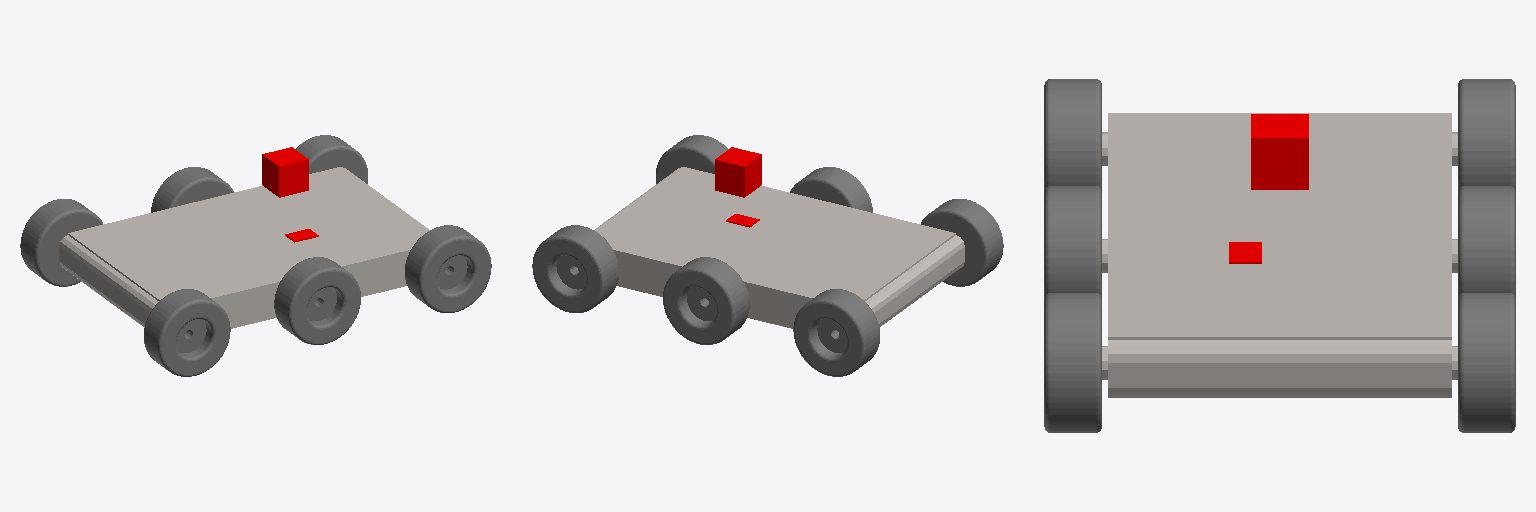
The robot description file, URDF, robot "6wdrobot":
<?xml version="1.0" encoding="utf-8"?>
<!-- This URDF was automatically created by SolidWorks to URDF Exporter! Originally created by [author] ([email redacted]) 
     Commit Version: 1.6.0-1-g15f4949  Build Version: 1.6.7594.29634
     For more information, please see http://wiki.ros.org/sw_urdf_exporter -->
<robot
  name="6wdrobot">
  <link name="dummy">
  </link>  
  <link
    name="base_link">
    <inertial>
      <origin
        xyz="3.25434433893571E-17 -7.87892363847751E-17 0.028309054753637"
        rpy="0 0 0" />
      <mass
        value="8.89985095070989" />
      <inertia
        ixx="0.0873775019369665"
        ixy="-6.18908522780936E-17"
        ixz="-7.10139062453339E-19"
        iyy="0.201411214668191"
        iyz="1.04057366878614E-17"
        izz="0.285825171408563" />
    </inertial>
    <visual>
      <origin
        xyz="0 0 0"
        rpy="0 0 0" />
      <geometry>
        <mesh
          filename="package://six_wheel_drive/meshes/base_link.STL" />
      </geometry>
      <material
        name="">
        <color
          rgba="0.776470588235294 0.756862745098039 0.737254901960784 1" />
      </material>
    </visual>
    <collision>
      <origin
        xyz="0 0 0"
        rpy="0 0 0" />
      <geometry>
        <mesh
          filename="package://six_wheel_drive/meshes/base_link.STL" />
      </geometry>
    </collision>
  </link>

  <joint name="dummy_joint" type="fixed">
     <parent link="dummy"/>
     <child link="base_link"/>
   </joint>

  <link
    name="wheel_1">
    <inertial>
      <origin
        xyz="5.55111512312578E-17 -3.46944695195361E-18 0.0234150828488255"
        rpy="0 0 0" />
      <mass
        value="0.496854720213167" />
      <inertia
        ixx="0.000600193850657454"
        ixy="0"
        ixz="1.61565152047808E-20"
        iyy="0.000600193850657454"
        iyz="4.50998871731038E-20"
        izz="0.00100449326717908" />
    </inertial>
    <visual>
      <origin
        xyz="0 0 0"
        rpy="0 1.5707963267949 -1.5707963267949" />
      <geometry>
        <mesh
          filename="package://six_wheel_drive/meshes/wheel_1.STL" />
      </geometry>
      <material
        name="">
        <color
          rgba="0.501960784313725 0.501960784313725 0.501960784313725 1" />
      </material>
    </visual>
    <collision>
      <origin
        xyz="0 0 0"
        rpy="0 1.5707963267949 -1.5707963267949" />
      <geometry>
        <mesh
          filename="package://six_wheel_drive/meshes/wheel_1.STL" />
      </geometry>
    </collision>
  </link>
  <joint
    name="wj1"
    type="continuous">
    <origin
      xyz="0.22 0.155 0.027"
      rpy="0 0 3.141592654" />
    <parent
      link="base_link" />
    <child
      link="wheel_1" />
    <axis
      xyz="0 -1 0" />
  </joint>
  <link
    name="wheel_2">
    <inertial>
      <origin
        xyz="-5.55111512312578E-17 -6.93889390390723E-18 0.0234150828488254"
        rpy="0 0 0" />
      <mass
        value="0.496854720213167" />
      <inertia
        ixx="0.000600193850657454"
        ixy="0"
        ixz="-3.14427093120379E-21"
        iyy="0.000600193850657454"
        iyz="-1.52762865296402E-22"
        izz="0.00100449326717908" />
    </inertial>
    <visual>
      <origin
        xyz="0 0 0"
        rpy="0 1.5707963267949 1.5707963267949" />
      <geometry>
        <mesh
          filename="package://six_wheel_drive/meshes/wheel_2.STL" />
      </geometry>
      <material
        name="">
        <color
          rgba="0.501960784313725 0.501960784313725 0.501960784313725 1" />
      </material>
    </visual>
    <collision>
      <origin
        xyz="0 0 0"
        rpy="0 1.5707963267949 1.5707963267949" />
      <geometry>
        <mesh
          filename="package://six_wheel_drive/meshes/wheel_2.STL" />
      </geometry>
    </collision>
  </link>
  <joint
    name="wj2"
    type="continuous">
    <origin
      xyz="0.22 -0.155 0.027"
      rpy="3.141592654 0 0" />
    <parent
      link="base_link" />
    <child
      link="wheel_2" />
    <axis
      xyz="0 -1 0" />
  </joint>
  <link
    name="wheel_3">
    <inertial>
      <origin
        xyz="-2.42861286636753E-17 1.73472347597681E-17 0.0234150828488254"
        rpy="0 0 0" />
      <mass
        value="0.496854720213167" />
      <inertia
        ixx="0.000600193850657454"
        ixy="-5.42101086242752E-20"
        ixz="4.78770762399125E-20"
        iyy="0.000600193850657454"
        iyz="3.38815713366649E-20"
        izz="0.00100449326717908" />
    </inertial>
    <visual>
      <origin
        xyz="0 0 0"
        rpy="0 1.5707963267949 -1.5707963267949" />
      <geometry>
        <mesh
          filename="package://six_wheel_drive/meshes/wheel_3.STL" />
      </geometry>
      <material
        name="">
        <color
          rgba="0.501960784313725 0.501960784313725 0.501960784313725 1" />
      </material>
    </visual>
    <collision>
      <origin
        xyz="0 0 0"
        rpy="0 1.5707963267949 -1.5707963267949" />
      <geometry>
        <mesh
          filename="package://six_wheel_drive/meshes/wheel_3.STL" />
      </geometry>
    </collision>
  </link>
  <joint
    name="wj3"
    type="continuous">
    <origin
      xyz="0 0.155 0.027"
      rpy="0 0 3.141592654" />
    <parent
      link="base_link" />
    <child
      link="wheel_3" />
    <axis
      xyz="0 -1 0" />
  </joint>
  <link
    name="wheel_4">
    <inertial>
      <origin
        xyz="2.86229373536173E-17 0 0.0234150828488254"
        rpy="0 0 0" />
      <mass
        value="0.496854720213167" />
      <inertia
        ixx="0.000600193850657454"
        ixy="0"
        ixz="-2.7326617250845E-21"
        iyy="0.000600193850657454"
        iyz="-5.07733050758664E-22"
        izz="0.00100449326717908" />
    </inertial>
    <visual>
      <origin
        xyz="0 0 0"
        rpy="0 1.5707963267949 1.5707963267949" />
      <geometry>
        <mesh
          filename="package://six_wheel_drive/meshes/wheel_4.STL" />
      </geometry>
      <material
        name="">
        <color
          rgba="0.501960784313725 0.501960784313725 0.501960784313725 1" />
      </material>
    </visual>
    <collision>
      <origin
        xyz="0 0 0"
        rpy="0 1.5707963267949 1.5707963267949" />
      <geometry>
        <mesh
          filename="package://six_wheel_drive/meshes/wheel_4.STL" />
      </geometry>
    </collision>
  </link>
  <joint
    name="wj4"
    type="continuous">
    <origin
      xyz="0 -0.155 0.027"
      rpy="3.141592654 0 0" />
    <parent
      link="base_link" />
    <child
      link="wheel_4" />
    <axis
      xyz="0 -1 0" />
  </joint>
  <link
    name="wheel_5">
    <inertial>
      <origin
        xyz="0 1.04083408558608E-17 0.0234150828488254"
        rpy="0 0 0" />
      <mass
        value="0.496854720213167" />
      <inertia
        ixx="0.000600193850657454"
        ixy="-1.6940658945086E-21"
        ixz="1.17900986878341E-20"
        iyy="0.000600193850657454"
        iyz="4.52750976635983E-20"
        izz="0.00100449326717908" />
    </inertial>
    <visual>
      <origin
        xyz="0 0 0"
        rpy="0 1.5707963267949 -1.5707963267949" />
      <geometry>
        <mesh
          filename="package://six_wheel_drive/meshes/wheel_5.STL" />
      </geometry>
      <material
        name="">
        <color
          rgba="0.501960784313725 0.501960784313725 0.501960784313725 1" />
      </material>
    </visual>
    <collision>
      <origin
        xyz="0 0 0"
        rpy="0 1.5707963267949 -1.5707963267949" />
      <geometry>
        <mesh
          filename="package://six_wheel_drive/meshes/wheel_5.STL" />
      </geometry>
    </collision>
  </link>
  <joint
    name="wj5"
    type="continuous">
    <origin
      xyz="-0.22 0.155 0.027"
      rpy="0 0 3.141592654" />
    <parent
      link="base_link" />
    <child
      link="wheel_5" />
    <axis
      xyz="0 -1 0" />
  </joint>
  <link
    name="wheel_6">
    <inertial>
      <origin
        xyz="2.77555756156289E-17 -3.46944695195361E-18 0.0234150828488254"
        rpy="0 0 0" />
      <mass
        value="0.496854720213167" />
      <inertia
        ixx="0.000600193850657454"
        ixy="0"
        ixz="2.16658438655785E-20"
        iyy="0.000600193850657454"
        iyz="6.89724555337065E-23"
        izz="0.00100449326717908" />
    </inertial>
    <visual>
      <origin
        xyz="0 0 0"
        rpy="0 1.5707963267949 1.5707963267949" />
      <geometry>
        <mesh
          filename="package://six_wheel_drive/meshes/wheel_6.STL" />
      </geometry>
      <material
        name="">
        <color
          rgba="0.501960784313725 0.501960784313725 0.501960784313725 1" />
      </material>
    </visual>
    <collision>
      <origin
        xyz="0 0 0"
        rpy="0 1.5707963267949 1.5707963267949" />
      <geometry>
        <mesh
          filename="package://six_wheel_drive/meshes/wheel_6.STL" />
      </geometry>
    </collision>
  </link>
  <joint
    name="wj6"
    type="continuous">
    <origin
      xyz="-0.22 -0.155 0.027"
      rpy="3.141592654 0 0" />
    <parent
      link="base_link" />
    <child
      link="wheel_6" />
    <axis
      xyz="0 -1 0" />
  </joint>
    <!--
  <link name="velodyne_base_link">
    <inertial>
      <mass value="0.83"/>
      <origin xyz="0 0 0.03585"/>
      <inertia ixx="0.001" ixy="0" ixz="0"
        iyy="0.001" iyz="0"
        izz="0.0011"/>
    </inertial>
    <visual>
      <geometry>
        <mesh filename="package://velodyne_description/meshes/VLP16_base_1.dae" />
      </geometry>
    </visual>
    <visual>
      <geometry>
        <mesh filename="package://velodyne_description/meshes/VLP16_base_2.dae" />
      </geometry>
    </visual>
    <collision>
      <origin rpy="0 0 0" xyz="0 0 0.03585"/>
      <geometry>
        <cylinder radius="0.0516" length="0.0717"/>
      </geometry>
    </collision>
  </link>

  <joint name="velodyne_base_mount_joint" type="fixed">
    <origin xyz="0 0 0.1" rpy="0 0 0" />
    <parent link="base_link"/>
    <child link="velodyne_base_link"/>
  </joint>
    
  <link name="velodyne">
    <inertial>
      <mass value="0.01"/>
      <origin xyz="0 0 0"/>
      <inertia ixx="0" ixy="0" ixz="0" iyy="0" iyz="0" izz="0"/>
    </inertial>
    <visual>
      <origin xyz="0 0 -0.0377" />
      <geometry>
        <mesh filename="package://velodyne_description/meshes/VLP16_scan.dae" />
      </geometry>
    </visual>
  </link>
    
  <joint name="velodyne_base_scan_joint" type="fixed" >
    <origin xyz="0 0 0" rpy="0 0 0" />
    <parent link="velodyne_base_link" />
    <child link="velodyne"/>
  </joint>
-->
  <transmission name="wj1_trans">
    <type>transmission_interface/SimpleTransmission</type>
    <joint name="wj1">
      <hardwareInterface>hardware_interface/VelocityJointInterface</hardwareInterface>
    </joint>
    <actuator name="$wj1_motor">
      <mechanicalReduction>1</mechanicalReduction>
    </actuator>
  </transmission>

  <transmission name="wj2_trans">
    <type>transmission_interface/SimpleTransmission</type>
    <joint name="wj2">
      <hardwareInterface>hardware_interface/VelocityJointInterface</hardwareInterface>
    </joint>
    <actuator name="$wj2_motor">
      <mechanicalReduction>1</mechanicalReduction>
    </actuator>
  </transmission>
  
  <transmission name="wj3_trans">
    <type>transmission_interface/SimpleTransmission</type>
    <joint name="wj3">
      <hardwareInterface>hardware_interface/VelocityJointInterface</hardwareInterface>
    </joint>
    <actuator name="$wj3_motor">
      <mechanicalReduction>1</mechanicalReduction>
    </actuator>
  </transmission>
  
  <transmission name="wj4_trans">
    <type>transmission_interface/SimpleTransmission</type>
    <joint name="wj4">
      <hardwareInterface>hardware_interface/VelocityJointInterface</hardwareInterface>
    </joint>
    <actuator name="$wj4_motor">
      <mechanicalReduction>1</mechanicalReduction>
    </actuator>
  </transmission>

  <transmission name="wj5_trans">
    <type>transmission_interface/SimpleTransmission</type>
    <joint name="wj5">
      <hardwareInterface>hardware_interface/VelocityJointInterface</hardwareInterface>
    </joint>
    <actuator name="$wj5_motor">
      <mechanicalReduction>1</mechanicalReduction>
    </actuator>
  </transmission>
  
  <transmission name="wj6_trans">
    <type>transmission_interface/SimpleTransmission</type>
    <joint name="wj6">
      <hardwareInterface>hardware_interface/VelocityJointInterface</hardwareInterface>
    </joint>
    <actuator name="$wj6_motor">
      <mechanicalReduction>1</mechanicalReduction>
    </actuator>
  </transmission>

  <gazebo reference="wheel_1">
    <mu1 value="200.0"/>
    <mu2 value="100.0"/>
    <kp value="10000000.0" />
    <kd value="1.0" />
    <material>Gazebo/Grey</material>
  </gazebo>

  <gazebo reference="wheel_2">
    <mu1 value="200.0"/>
    <mu2 value="100.0"/>
    <kp value="10000000.0" />
    <kd value="1.0" />
    <material>Gazebo/Grey</material>
  </gazebo>

  <gazebo reference="wheel_3">
    <mu1 value="200.0"/>
    <mu2 value="100.0"/>
    <kp value="10000000.0" />
    <kd value="1.0" />
    <material>Gazebo/Grey</material>
  </gazebo>

  <gazebo reference="wheel_4">
    <mu1 value="200.0"/>
    <mu2 value="100.0"/>
    <kp value="10000000.0" />
    <kd value="1.0" />
    <material>Gazebo/Grey</material>
  </gazebo>

  <gazebo reference="wheel_5">
    <mu1 value="200.0"/>
    <mu2 value="100.0"/>
    <kp value="10000000.0" />
    <kd value="1.0" />
    <material>Gazebo/Grey</material>
  </gazebo>

  <gazebo reference="wheel_6">
    <mu1 value="200.0"/>
    <mu2 value="100.0"/>
    <kp value="10000000.0" />
    <kd value="1.0" />
    <material>Gazebo/Grey</material>
  </gazebo>

<!-- Gazebo requires the velodyne_gazebo_plugins package -->
<!--    <xacro:if value="${gpu}">
      <sensor type="gpu_ray" name="${name}-VLP16">
        <pose>0 0 0 0 0 0</pose>
        <visualize>false</visualize>
        <update_rate>${hz}</update_rate>
        <ray>
          <scan>
            <horizontal>
              <samples>${samples}</samples>
              <resolution>1</resolution>
              <min_angle>${min_angle}</min_angle>
              <max_angle>${max_angle}</max_angle>
            </horizontal>
            <vertical>
              <samples>${lasers}</samples>
              <resolution>1</resolution>
              <min_angle>-${15.0*M_PI/180.0}</min_angle>
              <max_angle> ${15.0*M_PI/180.0}</max_angle>
            </vertical>
          </scan>
          <range>
            <min>${collision_range}</min>
            <max>${max_range+1}</max>
            <resolution>0.001</resolution>
          </range>
          <noise>
            <type>gaussian</type>
            <mean>0.0</mean>
            <stddev>0.0</stddev>
          </noise>
        </ray>
        <plugin name="gazebo_ros_laser_controller" filename="libgazebo_ros_velodyne_gpu_laser.so">
          <topicName>${topic}</topicName>
          <frameName>${name}</frameName>
          <min_range>${min_range}</min_range>
          <max_range>${max_range}</max_range>
          <gaussianNoise>${noise}</gaussianNoise>
        </plugin>
      </sensor> -->
  <gazebo reference="velodyne">
    <sensor type="ray" name="velodyne-VLP16">
      <pose>0 0 0 0 0 0</pose>
      <visualize>false</visualize>
      <update_rate>10</update_rate>
      <ray>
        <scan>
          <horizontal>
            <samples>1875</samples>
            <resolution>1</resolution>
              <min_angle>-3.1415926535897931</min_angle>
              <max_angle>3.1415926535897931</max_angle>
          </horizontal>
          <vertical>
            <samples>16</samples>
            <resolution>1</resolution>
            <min_angle>-0.26</min_angle>
            <max_angle>0.26</max_angle>
          </vertical>
        </scan>
        <range>
          <min>0.9</min>
          <max>131.0</max>
          <resolution>0.001</resolution>
        </range>
        <noise>
          <type>gaussian</type>
          <mean>0.0</mean>
          <stddev>0.0</stddev>
        </noise>
      </ray>
      <plugin name="gazebo_ros_laser_controller" filename="libgazebo_ros_velodyne_laser.so">
        <topicName>/velodyne_points</topicName>
        <frameName>velodyne</frameName>
        <min_range>0.9</min_range>
        <max_range>130.0</max_range>
        <gaussianNoise>0.008</gaussianNoise>
      </plugin>
    </sensor>
  </gazebo>

  <gazebo>
    <plugin name="p3d_base_controller" filename="libgazebo_ros_p3d.so">
      <alwaysOn>true</alwaysOn>
      <updateRate>50.0</updateRate>
      <bodyName>base_link</bodyName>
      <topicName>ground_truth/state</topicName>
      <gaussianNoise>0.01</gaussianNoise>
      <frameName>world</frameName>
      <xyzOffsets>0 0 0</xyzOffsets>
      <rpyOffsets>0 0 0</rpyOffsets>
    </plugin>
  </gazebo>

  <gazebo>
    <plugin name="gazebo_ros_control" filename="libgazebo_ros_control.so">
      <robotNamespace>/</robotNamespace>
    </plugin>
  </gazebo>
  
  
  <gazebo>


		<plugin name="imu_controller" filename="libgazebo_ros_imu.so">
			<alwaysOn>true</alwaysOn>
			<updateRate>20.0</updateRate>
			<bodyName>base_imu_link</bodyName>
			<topicName>imu</topicName>
			<gaussianNoise>0.05</gaussianNoise>
			<frameName>base_imu_link</frameName>
			<xyzOffsets>0 0 0</xyzOffsets>
			<rpyOffset>0 0 0</rpyOffset>
			<serviceName>/default_imu</serviceName>
		</plugin>
	</gazebo>
	
	<link name="base_imu_link">
		<visual>
			<geometry>
				<box size="0.041 0.028 0.002"/>
			</geometry>
			<material name="red">
				<color rgba="1 0 0 1"/>
			</material>
		</visual>
	</link>
	
		<joint name="imu_joint" type="fixed">
		<parent link="base_link"/>
		<child link="base_imu_link"/>
		<origin xyz="0.06 -0.03 0.058" rpy="0 0 0"/>
	</joint>
	
	
	
	
	  <joint name="camera_joint" type="fixed">
    <axis xyz="0 1 0" />
    <origin xyz="0.05 0 0.15" rpy="0 0 0"/>
    <parent link="base_link"/>
    <child link="camera_link"/>
  </joint>

  
  <link name="camera_link">
    <collision>
      <origin xyz="0 0 0" rpy="0 0 0"/>
      <geometry>
    <box size="0.05 0.05 0.05"/>
      </geometry>
    </collision>

    <visual>
      <origin xyz="0 0 0" rpy="0 0 0"/>
      <geometry>
    <box size="0.05 0.05 0.05"/>
      </geometry>
      <material name="red"/>
    </visual>

    <inertial>
      <mass value="1e-5" />
      <origin xyz="0 0 0" rpy="0 0 0"/>
      <inertia ixx="1e-6" ixy="0" ixz="0" iyy="1e-6" iyz="0" izz="1e-6" />
    </inertial>
  </link>
  
   
  <gazebo reference="camera_link">
    <sensor type="camera" name="camera1">
      <update_rate>30.0</update_rate>
      <camera name="head">
        <horizontal_fov>1.3962634</horizontal_fov>
        <image>
          <width>800</width>
          <height>800</height>
          <format>R8G8B8</format>
        </image>
        <clip>
          <near>0.02</near>
          <far>300</far>
        </clip>
        <noise>
          <type>gaussian</type>
          
          <mean>0.0</mean>
          <stddev>0.007</stddev>
        </noise>
      </camera>
      <plugin name="camera_controller" filename="libgazebo_ros_camera.so">
        <alwaysOn>true</alwaysOn>
        <updateRate>0.0</updateRate>
        <cameraName>six_wheel_drive/camera1</cameraName>
        <imageTopicName>image_raw</imageTopicName>
        <cameraInfoTopicName>camera_info</cameraInfoTopicName>
        <frameName>camera_link</frameName>
        <hackBaseline>0.07</hackBaseline>
        <distortionK1>0.0</distortionK1>
        <distortionK2>0.0</distortionK2>
        <distortionK3>0.0</distortionK3>
        <distortionT1>0.0</distortionT1>
        <distortionT2>0.0</distortionT2>
      </plugin>
    </sensor>
  </gazebo>
 
</robot>

--- Facts derived from the render (not from the file) ---
3 views of the same robot in one strip: view 1: azimuth 30°, elevation 25°; view 2: azimuth 150°, elevation 25°; view 3: azimuth 270°, elevation 25° (orthographic).
Model 6wdrobot with 10 links and 9 joints (6 continuous, 3 fixed), rooted at dummy, posed every joint at zero.
Visible links, largest first — view 1: base_link, wheel_4, wheel_6, wheel_2, wheel_5, wheel_3, camera_link, wheel_1; view 2: base_link, wheel_3, wheel_5, wheel_1, wheel_6, wheel_4, camera_link, wheel_2; view 3: base_link, wheel_1, wheel_2, wheel_5, wheel_6, wheel_3, wheel_4, camera_link, base_imu_link.
Boxes of the visible links, x1=… form: base_link: x1=59, y1=167, x2=429, y2=328; wheel_4: x1=274, y1=257, x2=360, y2=344; wheel_6: x1=144, y1=289, x2=230, y2=376; wheel_2: x1=405, y1=225, x2=491, y2=312; wheel_5: x1=20, y1=199, x2=102, y2=286; wheel_3: x1=151, y1=167, x2=233, y2=212; camera_link: x1=262, y1=147, x2=308, y2=197; wheel_1: x1=295, y1=135, x2=367, y2=183; base_link: x1=594, y1=167, x2=964, y2=328; wheel_3: x1=663, y1=257, x2=749, y2=344; wheel_5: x1=793, y1=289, x2=879, y2=376; wheel_1: x1=532, y1=225, x2=618, y2=312; wheel_6: x1=921, y1=199, x2=1003, y2=286; wheel_4: x1=790, y1=167, x2=872, y2=212; camera_link: x1=715, y1=147, x2=761, y2=197; wheel_2: x1=656, y1=135, x2=728, y2=183; base_link: x1=1102, y1=113, x2=1457, y2=397; wheel_1: x1=1458, y1=293, x2=1515, y2=432; wheel_2: x1=1044, y1=293, x2=1101, y2=432; wheel_5: x1=1458, y1=79, x2=1515, y2=191; wheel_6: x1=1044, y1=79, x2=1101, y2=191; wheel_3: x1=1458, y1=186, x2=1515, y2=297; wheel_4: x1=1044, y1=186, x2=1101, y2=297; camera_link: x1=1251, y1=114, x2=1308, y2=189; base_imu_link: x1=1229, y1=242, x2=1261, y2=263.
Bounding box of the posed robot: 0.5618 × 0.41 × 0.209 m (x, y, z).
Meshes: 7 distinct files referenced, 7 mesh visuals loaded (7 binary STL).
